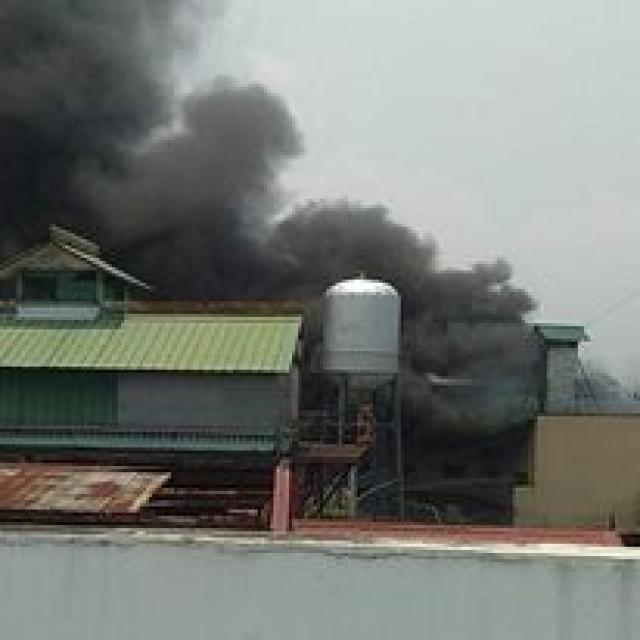Smoke: (1, 0, 404, 281), (402, 230, 547, 400)
